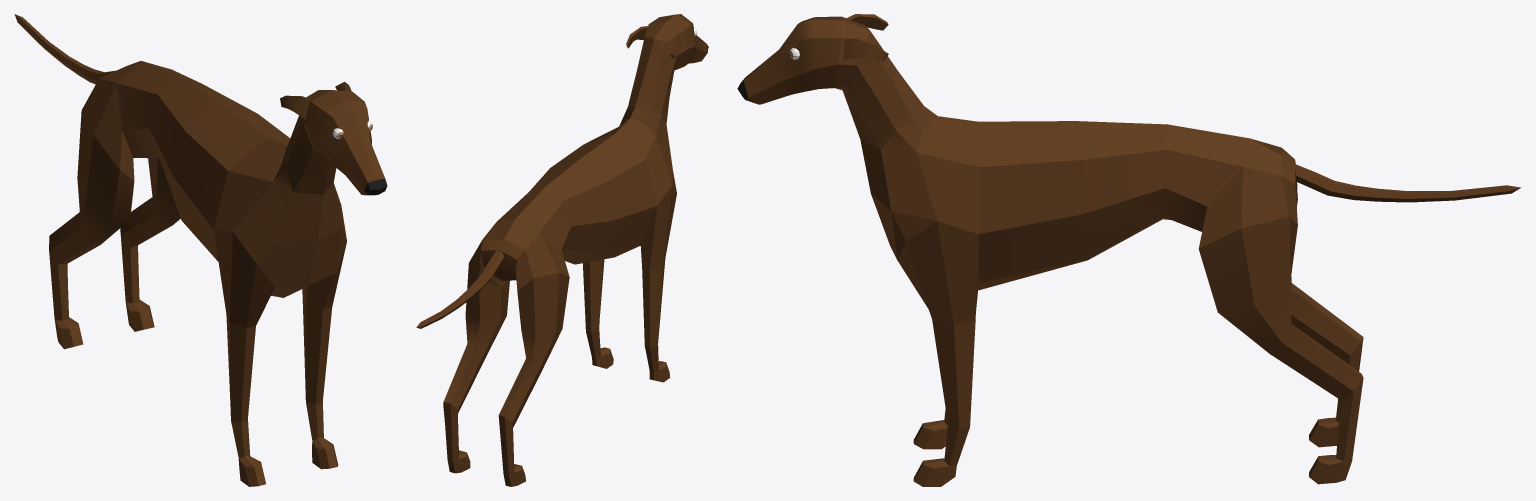
Rendered from scene_dsxq03s9WA.glb.
3 views of the same model, side by side, from view 1: azimuth 30°, elevation 25°; view 2: azimuth 150°, elevation 25°; view 3: azimuth 270°, elevation 25° (orthographic). The views are drawn at different scales.
Parts seen in each view (by area): view 1: Greyhound1 polySurface6, Greyhound1 RightEar; view 2: Greyhound1 polySurface6; view 3: Greyhound1 polySurface6.
Boxes of the visible parts, box(x1,y1,x2,y2) form: Greyhound1 polySurface6: box(14, 14, 387, 486); Greyhound1 RightEar: box(280, 95, 310, 119); Greyhound1 polySurface6: box(416, 14, 708, 486); Greyhound1 polySurface6: box(737, 16, 1520, 486).
Bounding box in the file's own units: 1.44 × 5.27 × 8.43.
